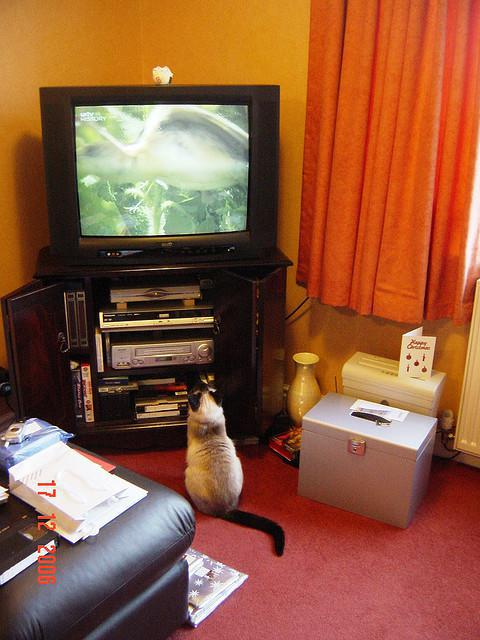tv: (46, 89, 266, 262)
